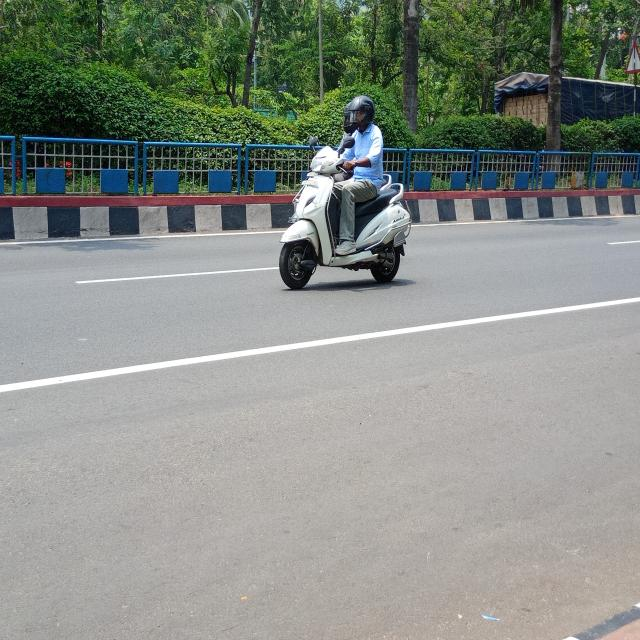bike: (260, 138, 420, 299)
